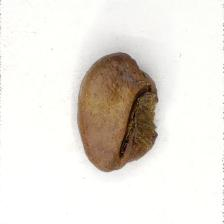NG: (113, 84, 158, 166)
